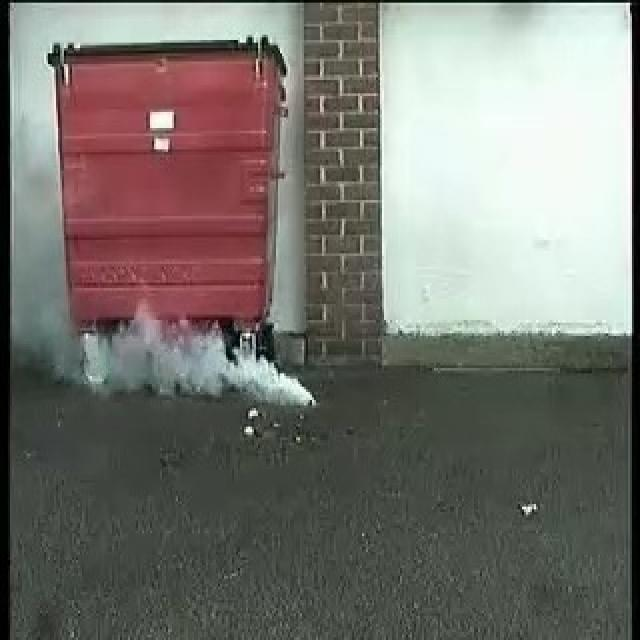smoke: (88, 313, 316, 412)
